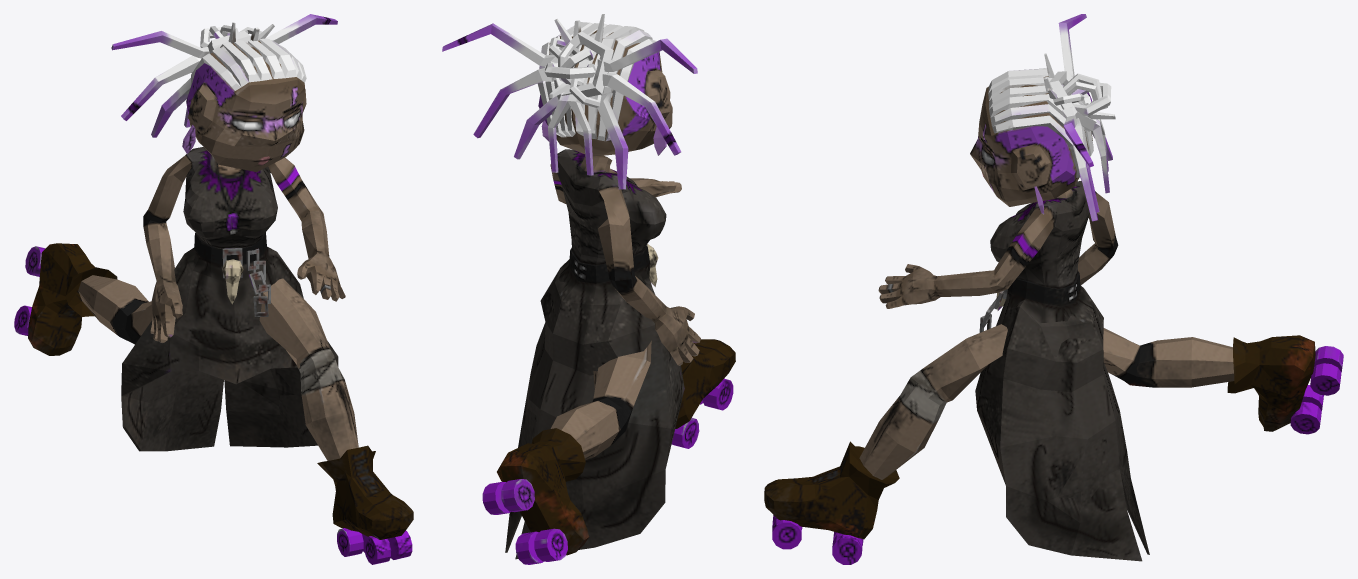
File: bruja_000036.obj
3 views of the same model, side by side, from view 1: azimuth 30°, elevation 25°; view 2: azimuth 150°, elevation 25°; view 3: azimuth 270°, elevation 25° (orthographic). The views are drawn at different scales.
Parts seen in each view (by area): view 1: Bruja_Plane.001; view 2: Bruja_Plane.001; view 3: Bruja_Plane.001.
Boxes of the visible parts, x1=… form: Bruja_Plane.001: x1=14, y1=14, x2=413, y2=564; Bruja_Plane.001: x1=442, y1=14, x2=735, y2=564; Bruja_Plane.001: x1=764, y1=14, x2=1343, y2=564.
Bounding box in the file's own units: 7.41 × 14.49 × 15.63.
